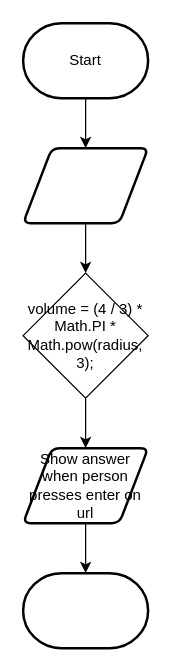
The diagram is 170 pixels wide and 670 high, and some of its shapes have lost their labels. Each missing label, with the centre of its shape:
Grab radius form query strings in the url: [85,185]
Stop: [85,610]
